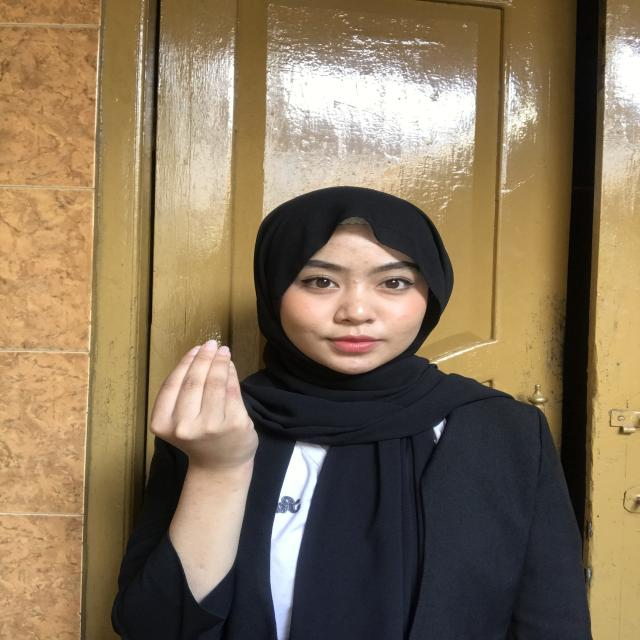kapan: (149, 327, 301, 481)
